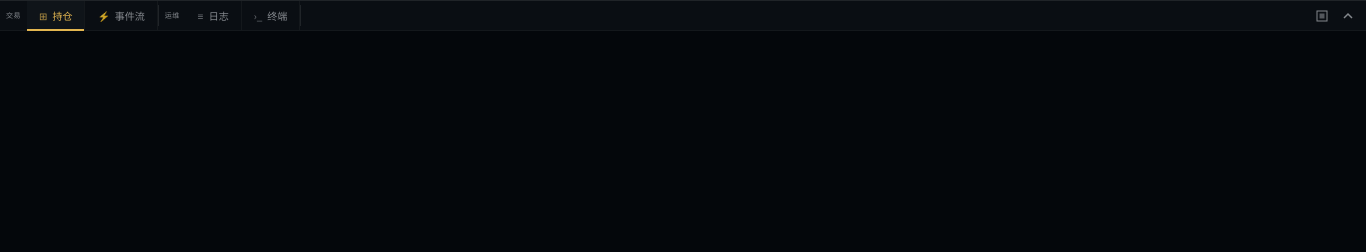
Test: 异动待批条 — 只在有料/出错时现身 › suggest 档有待批提案 → 渲染卡片,并明写「不下单」
Click the button with class "dtab" showing "⚡ 事件流".
click(122, 16)  # box [85,1,158,30]
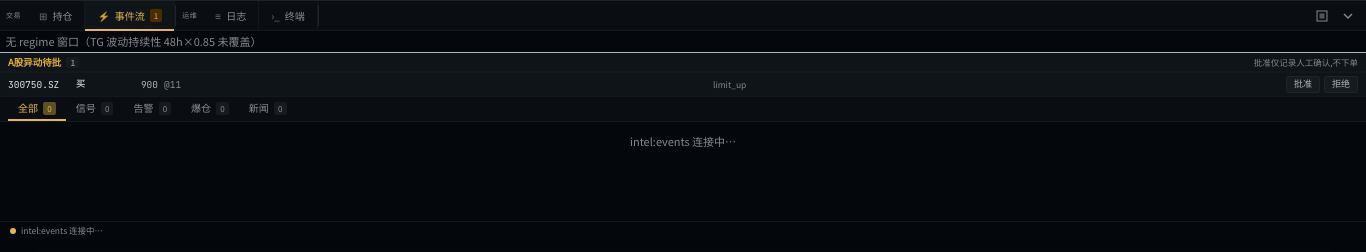
Check: the element with class "ap-row" is shown, box [0,72,1365,96]
Check: the text "批准仅记录人工确认,不下单" is shown, box [1254,57,1358,68]
Check: the text with class "ap-sym" reads "300750.SZ", box [8,78,59,91]
